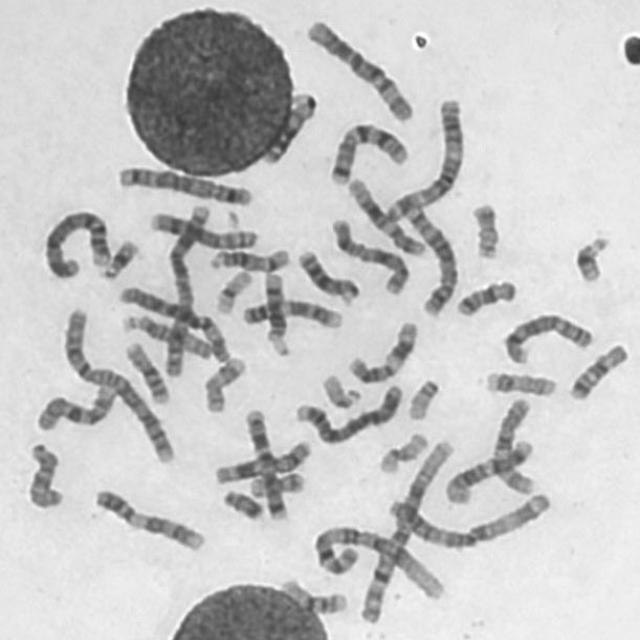A1: (354, 430, 457, 626), (307, 520, 446, 602)
A2: (58, 302, 177, 466), (158, 200, 213, 381)
A3: (384, 486, 556, 551), (381, 92, 466, 222)
B4: (290, 379, 406, 447), (39, 204, 113, 281)
B5: (397, 199, 460, 319), (113, 161, 255, 207)
C10: (488, 392, 539, 496), (31, 378, 120, 434)
C11: (210, 434, 316, 486), (344, 316, 421, 385)
C12: (342, 171, 430, 258), (440, 434, 537, 507)
C6: (301, 13, 417, 124), (114, 281, 233, 364)
C7: (240, 402, 291, 523), (324, 117, 412, 187)
C8: (500, 308, 597, 366), (143, 206, 260, 251)
C9: (88, 483, 208, 554), (234, 293, 344, 331)
D13: (258, 87, 320, 167), (294, 244, 362, 306)
D14: (258, 266, 293, 356), (203, 243, 292, 274)
D15: (116, 309, 221, 361), (21, 437, 66, 510)
E16: (119, 336, 172, 406), (275, 574, 349, 616)
E17: (198, 352, 248, 415), (481, 366, 559, 398)
E18: (564, 338, 630, 403), (452, 275, 520, 318)
F19: (374, 427, 430, 476), (210, 264, 254, 316)
F20: (467, 197, 503, 261), (245, 468, 307, 500)
G21: (570, 229, 613, 285), (96, 235, 142, 281)
G22: (317, 369, 363, 411), (403, 375, 442, 422)
X: (326, 212, 412, 296)
Y: (219, 484, 266, 523)
